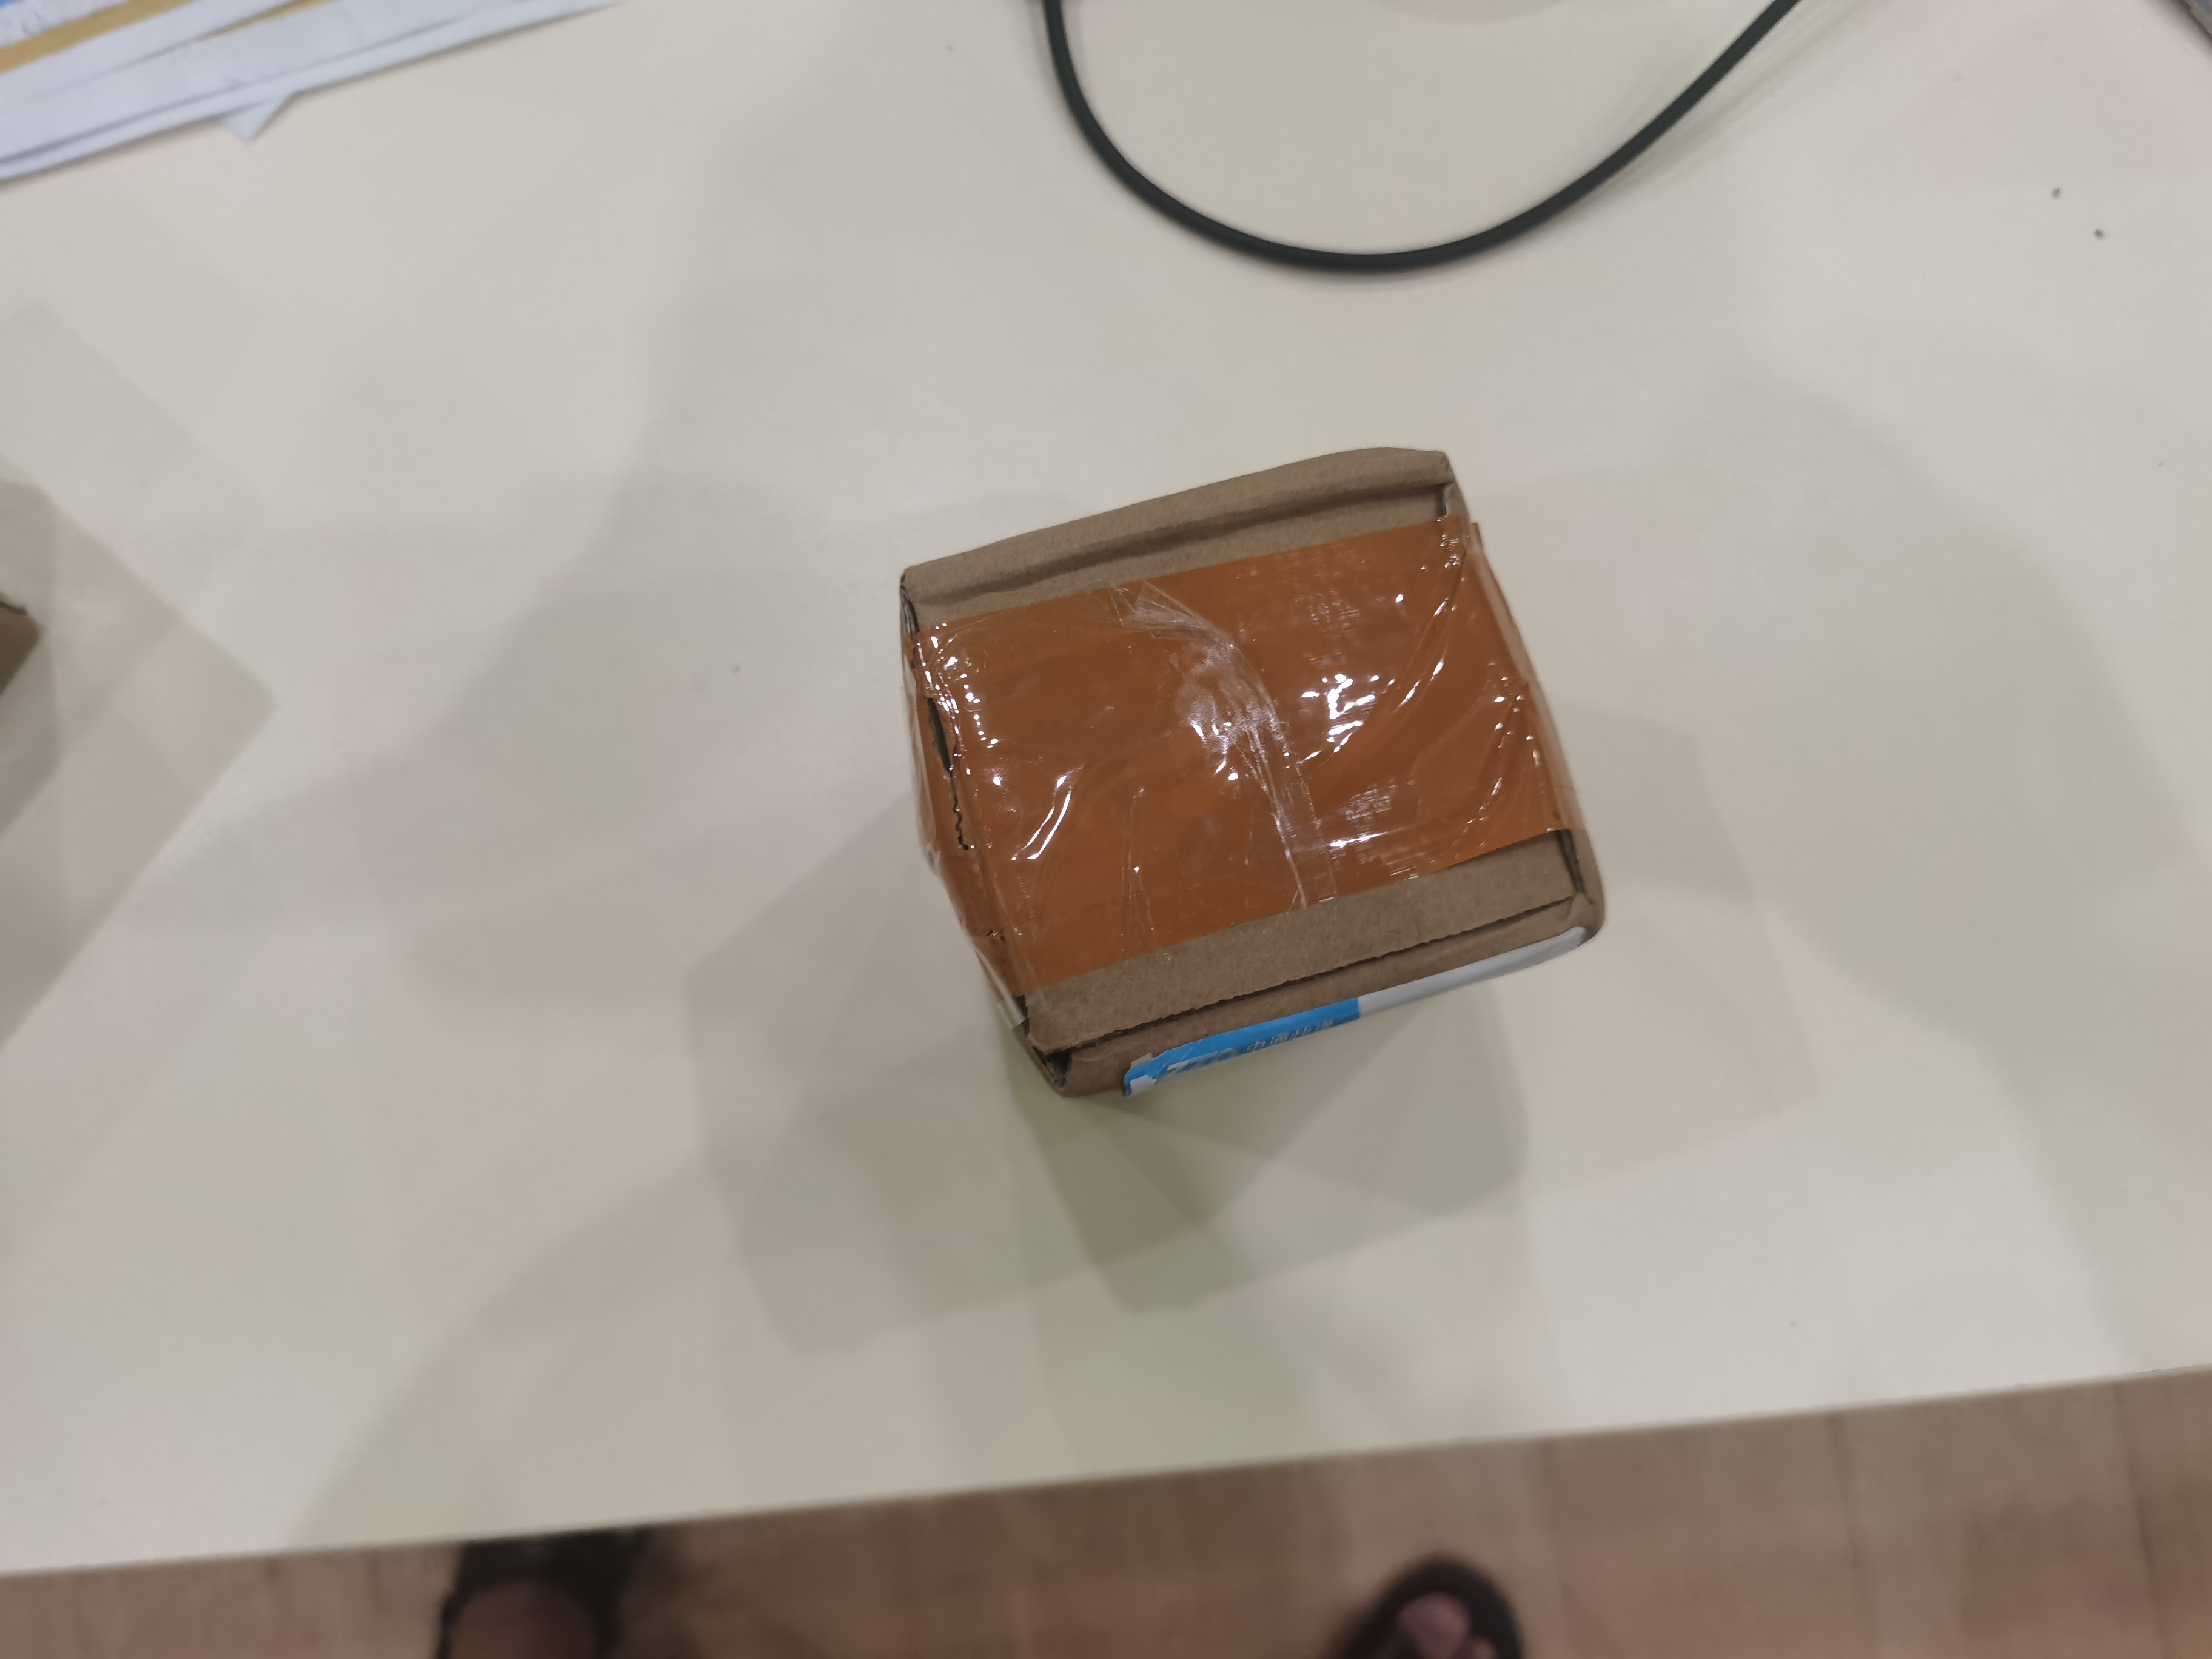box: (822, 439, 1623, 1155)
